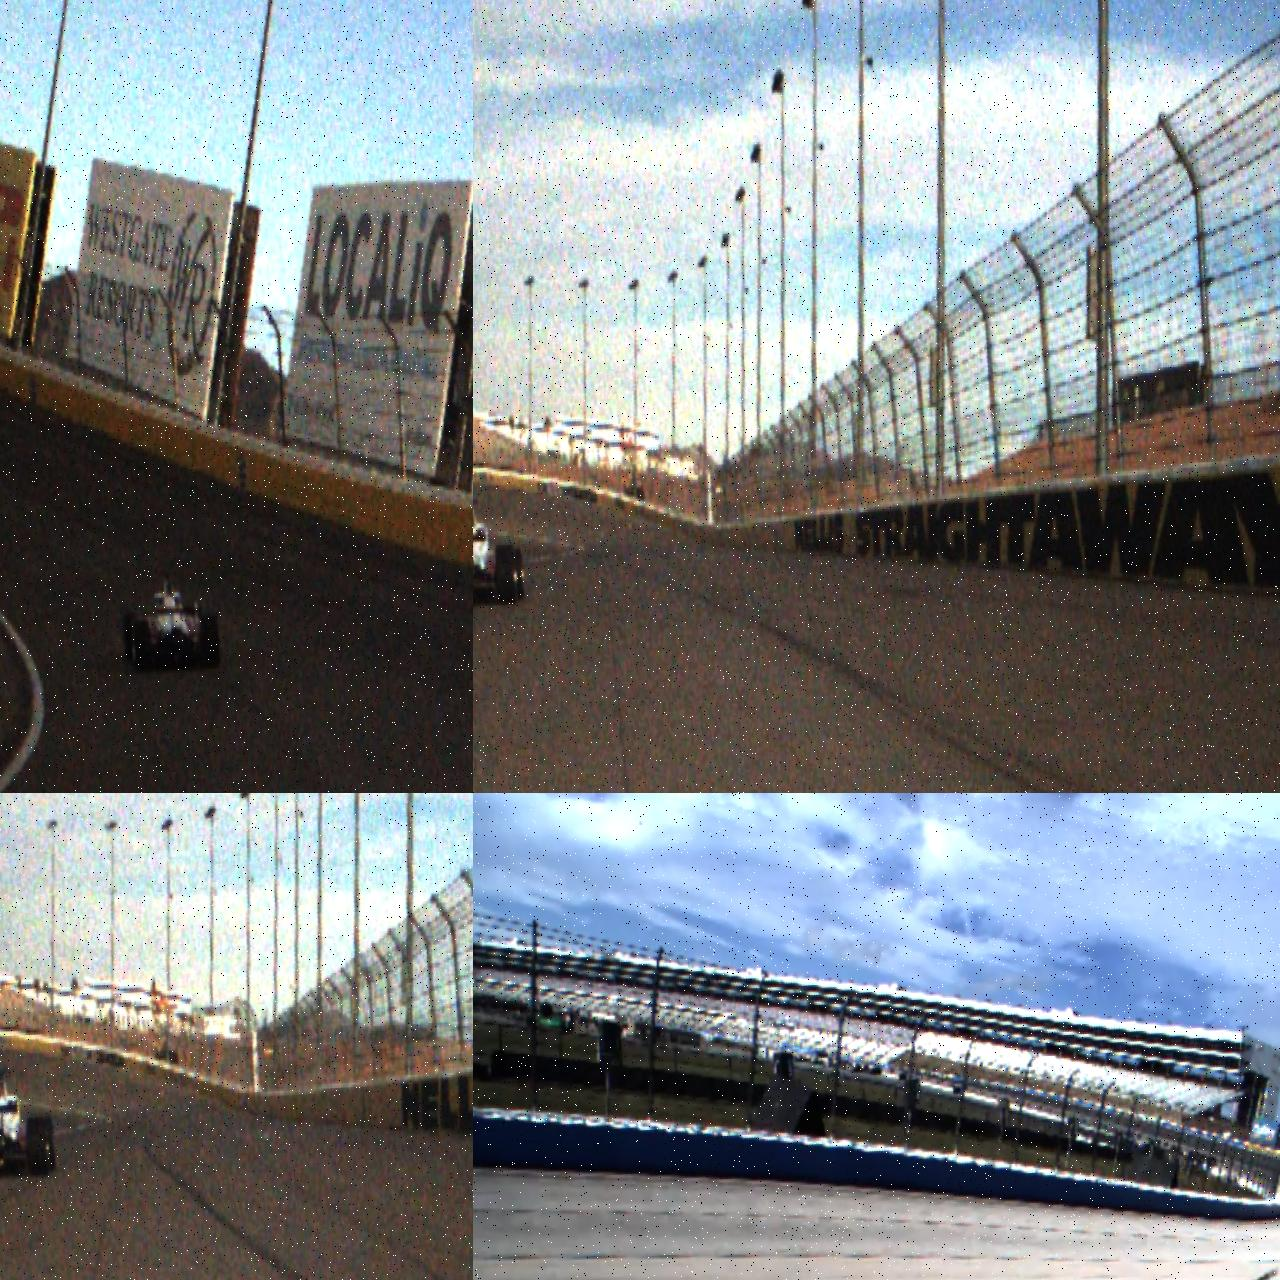AV: (120, 565, 222, 674), (0, 1063, 55, 1179), (474, 496, 525, 610)
Wheel: (495, 544, 517, 604), (26, 1117, 48, 1175), (131, 620, 154, 673), (202, 613, 220, 668), (122, 611, 137, 666), (509, 549, 525, 599)
